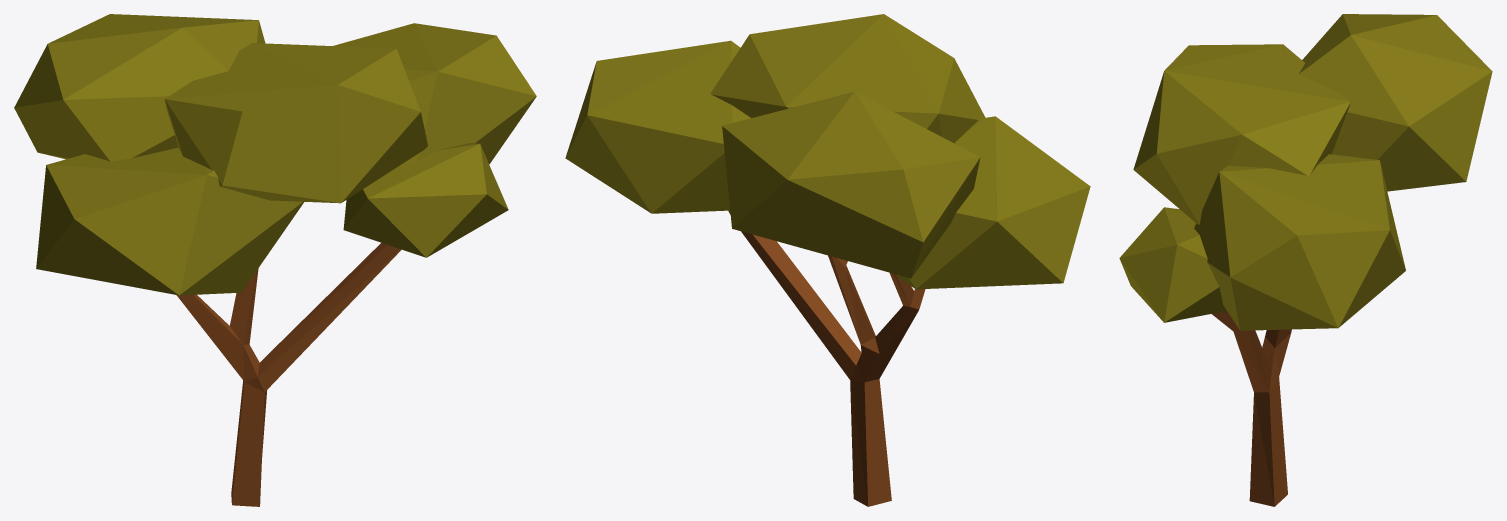
The model's file is BlobTree2.fbx.
3 renders of one model, left to right at view 1: azimuth 30°, elevation 25°; view 2: azimuth 150°, elevation 25°; view 3: azimuth 270°, elevation 25°, orthographic.
Parts seen in each view (by area): view 1: BlobTree2; view 2: BlobTree2; view 3: BlobTree2.
Part boxes in pixels (left/top/right/bottom): BlobTree2: left=14, top=14, right=536, bottom=506; BlobTree2: left=565, top=14, right=1090, bottom=506; BlobTree2: left=1119, top=14, right=1492, bottom=506.
Bounding box in the file's own units: 330 × 296 × 221.
